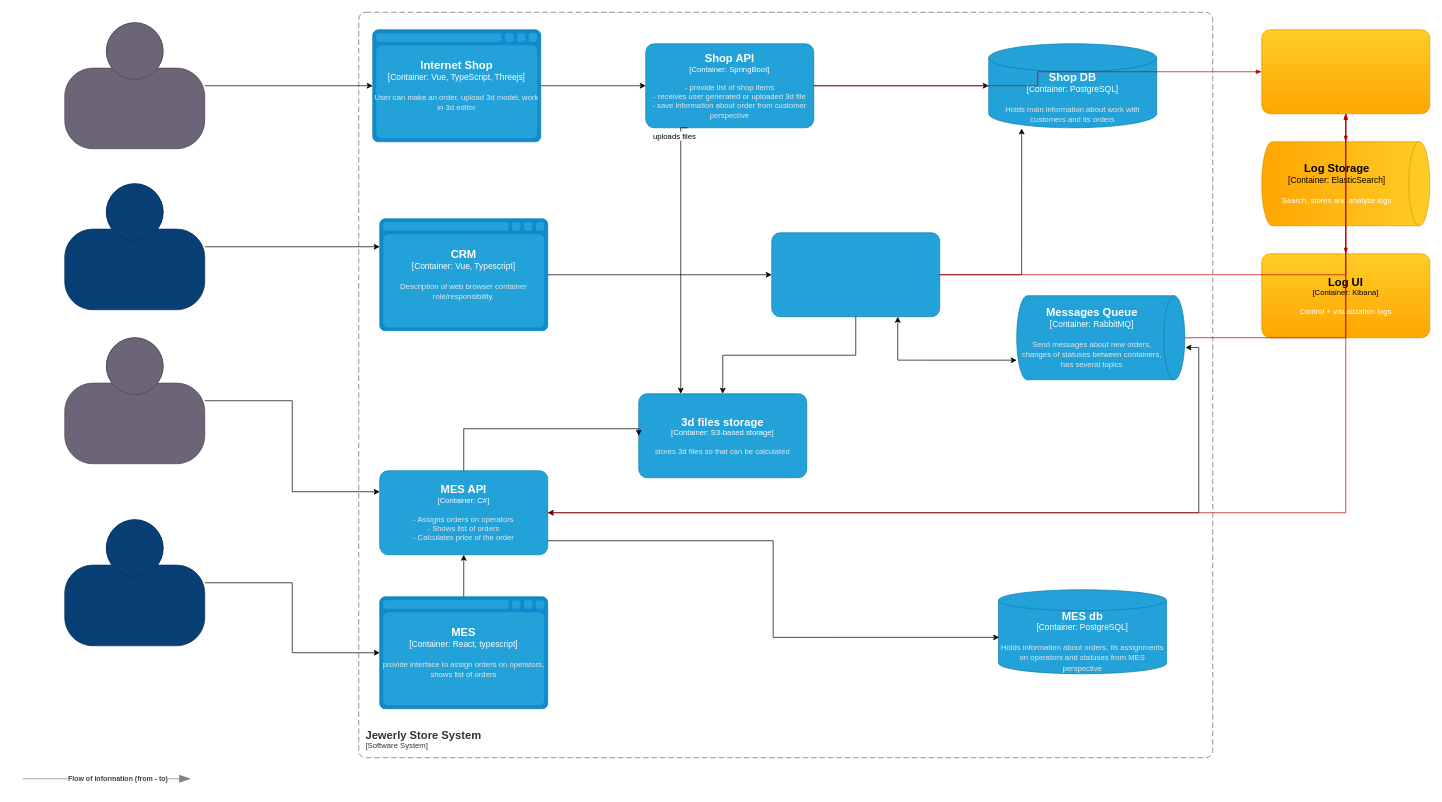
Some shapes in this 1442 by 802 pixel diagram are drawn without their labels. Each missing label, with the centre of its shape:
API user [Person] Description of external person.: the point at 134,400
CRM API [Container: SpringBoot] Description of container role/responsibility.: the point at 855,274
Customer [Person] Description of external person.: the point at 134,85
Log Collector [Container: Filebeat + Logstash] Collects logs from services: the point at 1345,71
Operator [Person] Takes order in work, manufactures jewerly: the point at 134,582
Seller [Person] Operates with order, confirms manufacturing for the user: the point at 134,246
